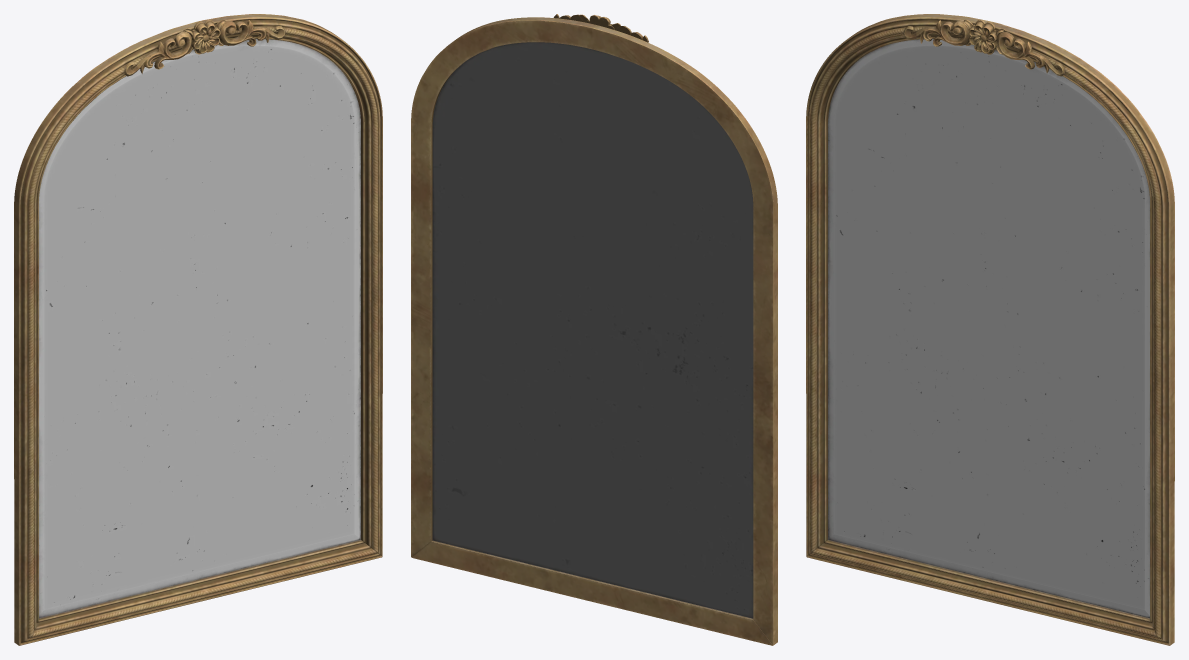
File: victorian-arched-mirror.glb
3 views of the same model, side by side, from view 1: azimuth 30°, elevation 25°; view 2: azimuth 150°, elevation 25°; view 3: azimuth 330°, elevation 25° (orthographic).
Visible parts, largest first — view 1: ornate_mirror_01; view 2: ornate_mirror_01; view 3: ornate_mirror_01.
Boxes of the visible parts, bbox=[...] form: ornate_mirror_01: bbox=[14, 14, 382, 645]; ornate_mirror_01: bbox=[411, 14, 777, 645]; ornate_mirror_01: bbox=[806, 14, 1174, 645].
Size of the model in its own units: 0.4865 by 0.7442 by 0.026.
1 material, 1 textured.
